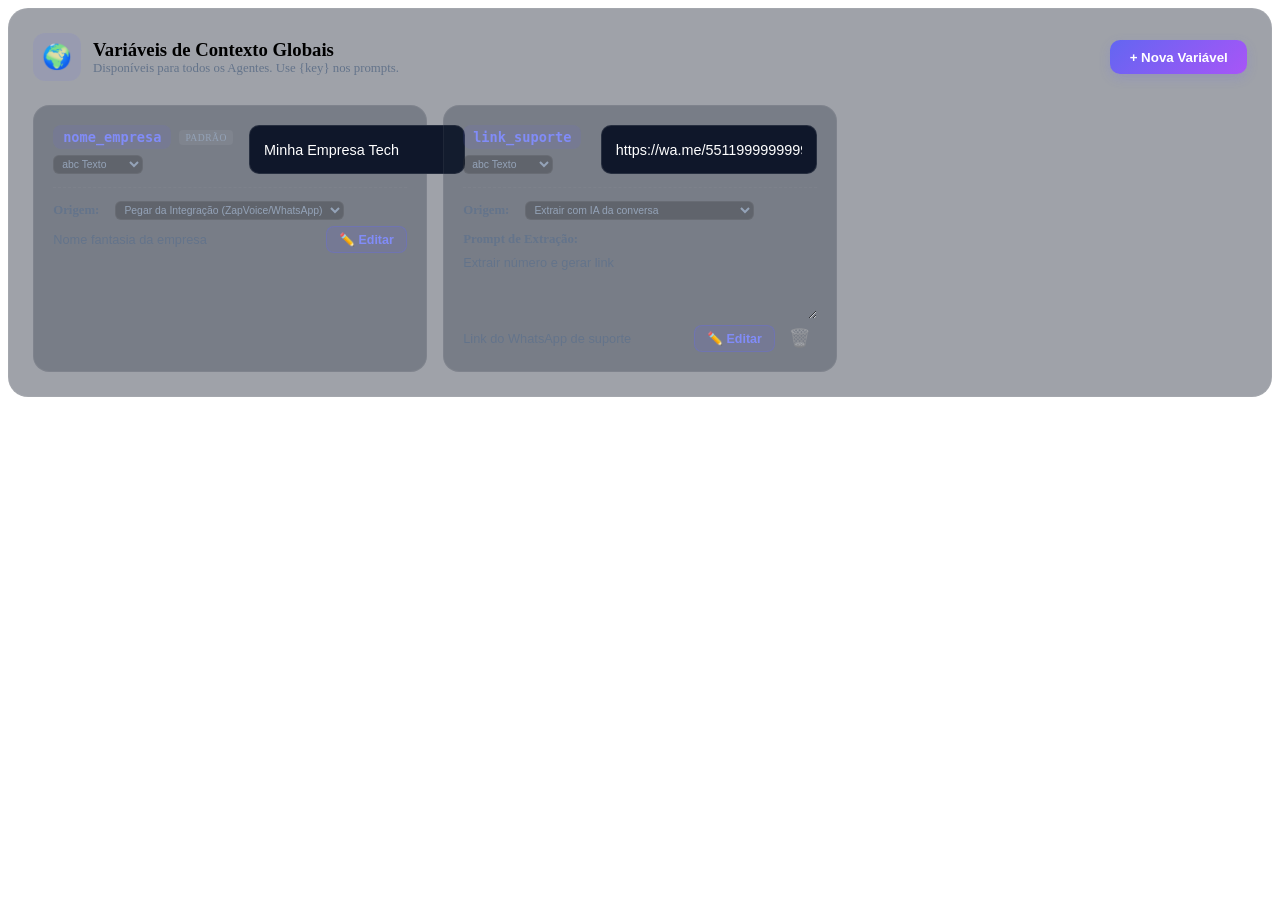
Scenario: GlobalContextManager Component › deve abrir o modal expandido ao clicar no botão de maximizar o prompt de extração ou descrição no modal de edição
This screenshot has width=1280, height=900.
Check: the text "link_suporte" is shown, box [463,125,581,149]
Click the button "✏️ Editar" below "Prompt de Extração:" at (735, 339), box [694,325,775,352]
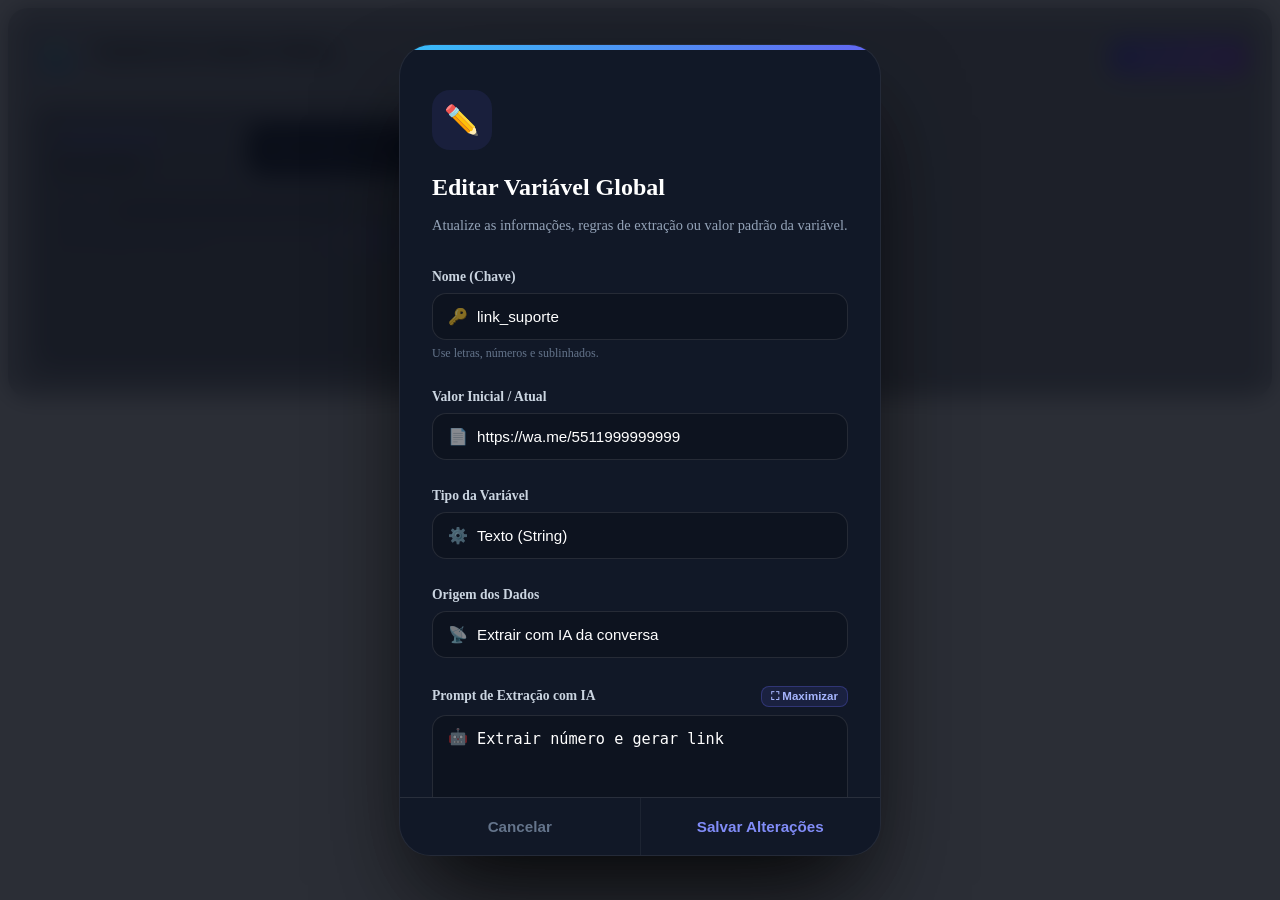
Check: the heading "Editar Variável Global" is shown, box [432,174,665,200]
Check: the button with test id "maximize-edit-prompt-btn" is shown
Click the button with test id "maximize-edit-prompt-btn" at (804, 696), box [761,686,848,707]
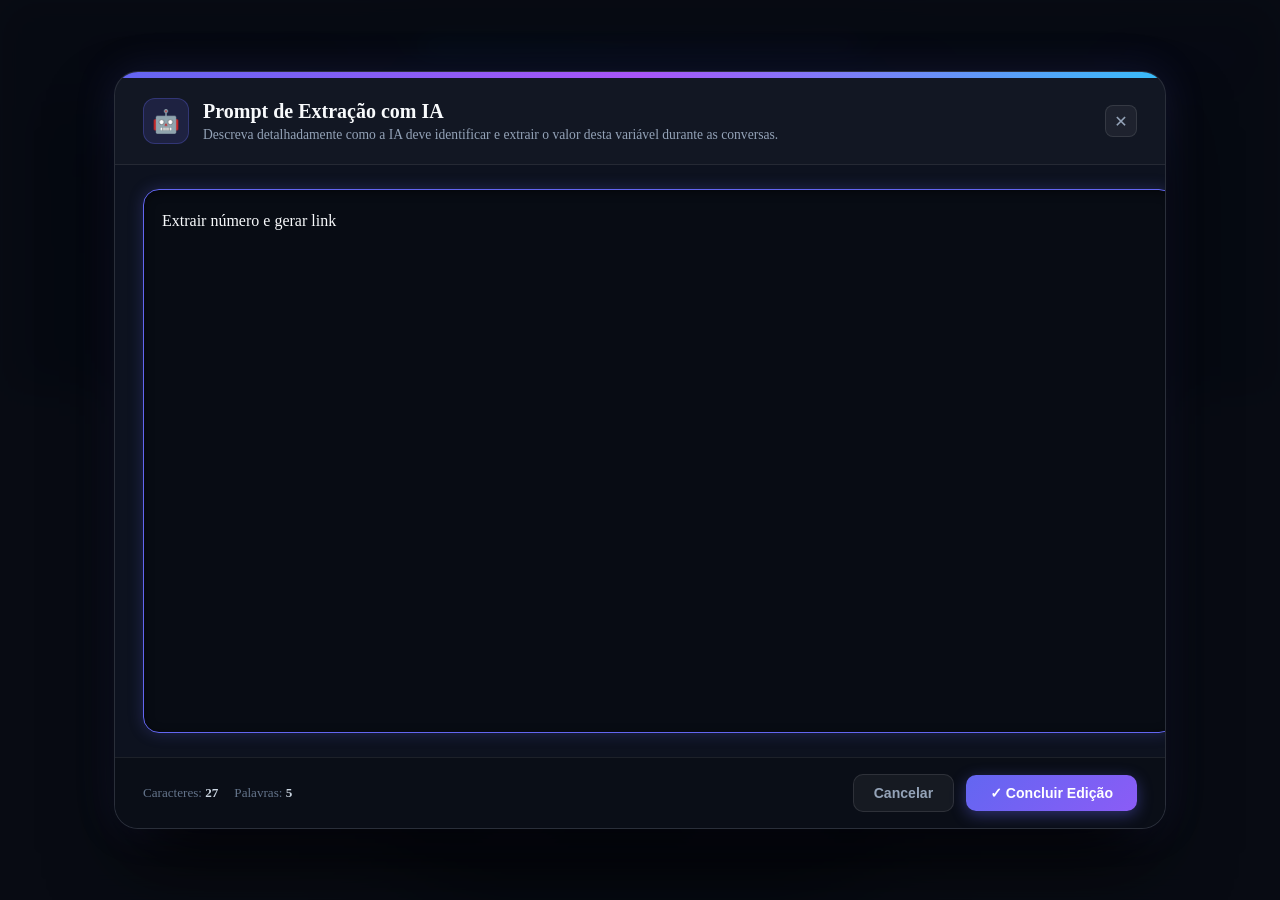
Check: the element with test id "expanded-field-modal" is shown
Note: Modifica o texto no textarea expandido
Replace the text in the text box with test id "expanded-field-textarea" with "Nova instrução super detalhada da IA" at (659, 461), box [143,189,1175,733]
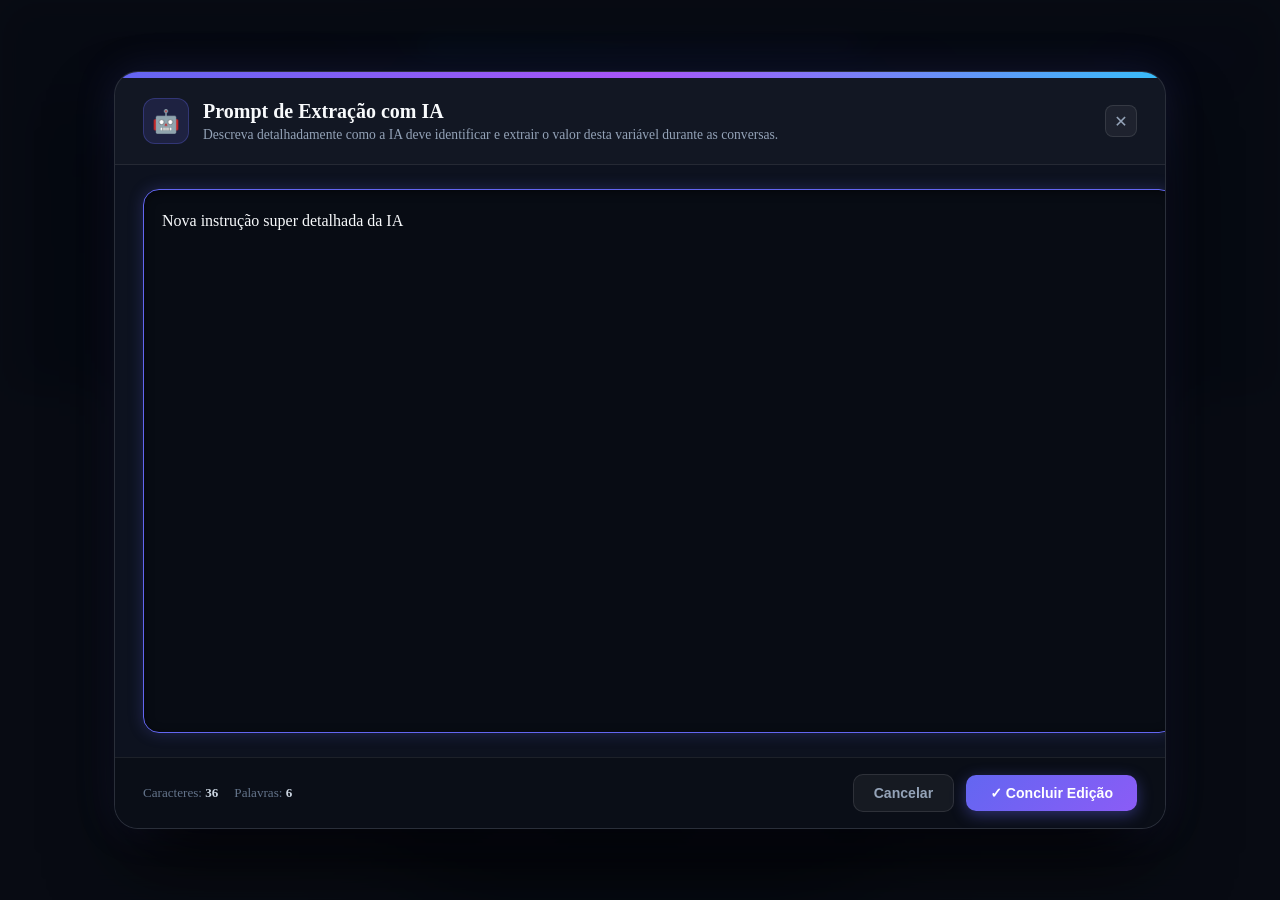
Click the button with test id "expanded-field-save-btn" at (1052, 793), box [966,775,1137,811]
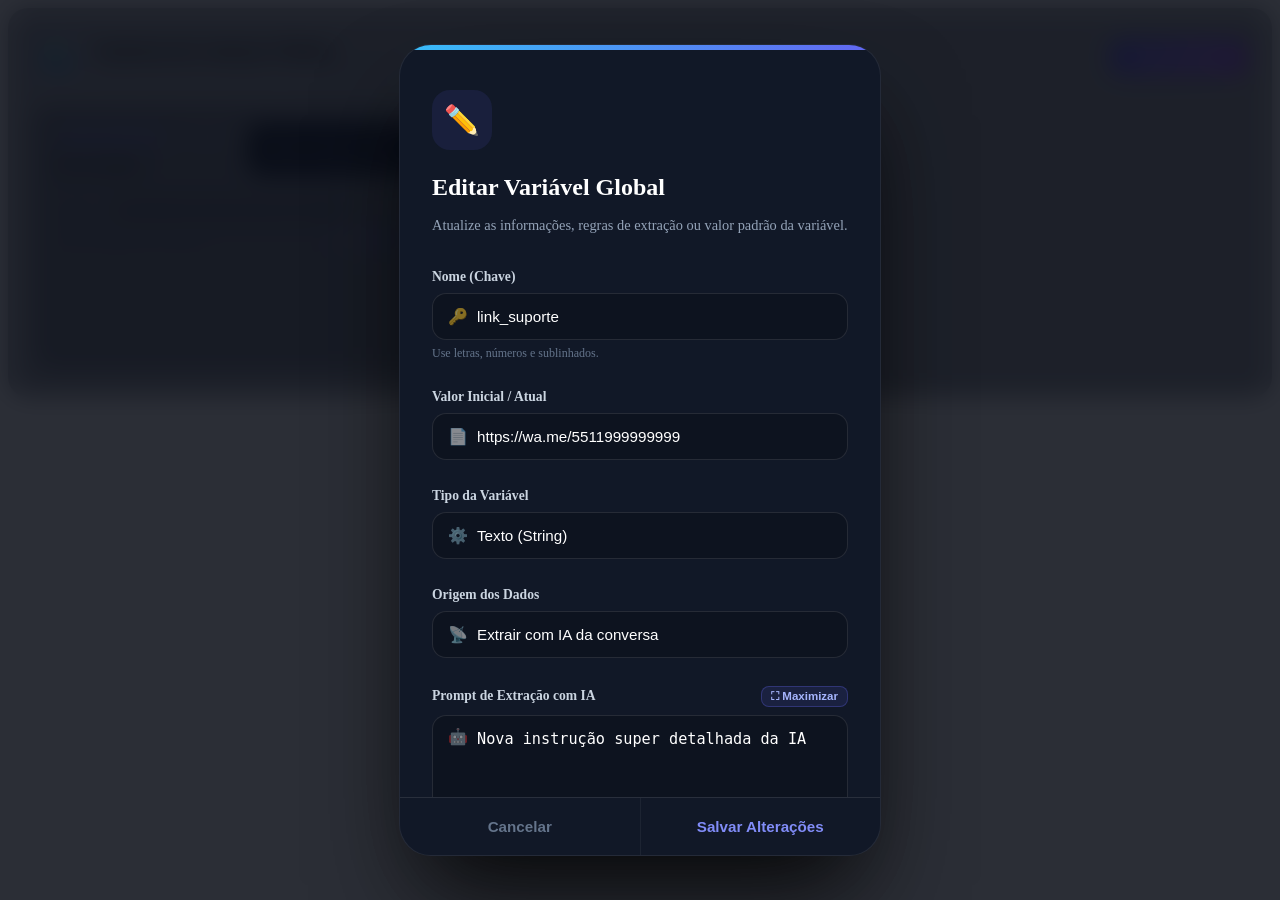
Check: the element with test id "expanded-field-modal" is gone
Check: the text box holds "Nova instrução super detalhada da IA", box [432,715,848,797]
